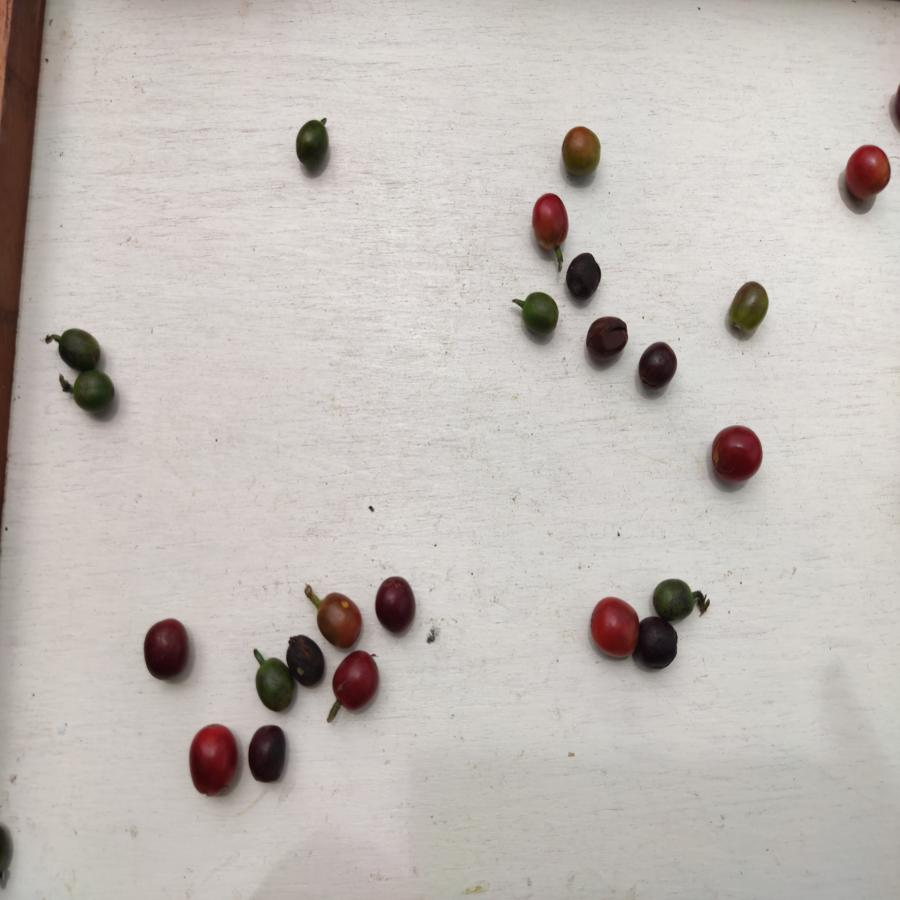Inmaduro: (56, 328, 106, 371), (650, 578, 700, 620), (292, 117, 331, 170), (71, 368, 116, 413), (253, 655, 285, 710), (521, 292, 561, 334)
Maduro: (184, 724, 240, 794), (709, 425, 766, 486), (839, 143, 895, 204), (587, 596, 638, 660), (332, 651, 379, 715), (527, 193, 569, 255)
Pinton: (315, 588, 364, 650), (727, 279, 771, 336), (562, 126, 601, 180)
Sobremaduro: (143, 617, 190, 680), (374, 574, 417, 634), (247, 725, 286, 784), (637, 617, 680, 670), (285, 632, 325, 687), (583, 316, 629, 362), (565, 253, 602, 301), (638, 342, 675, 389)
